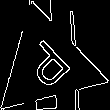P_SE: (17, 33, 78, 95)
